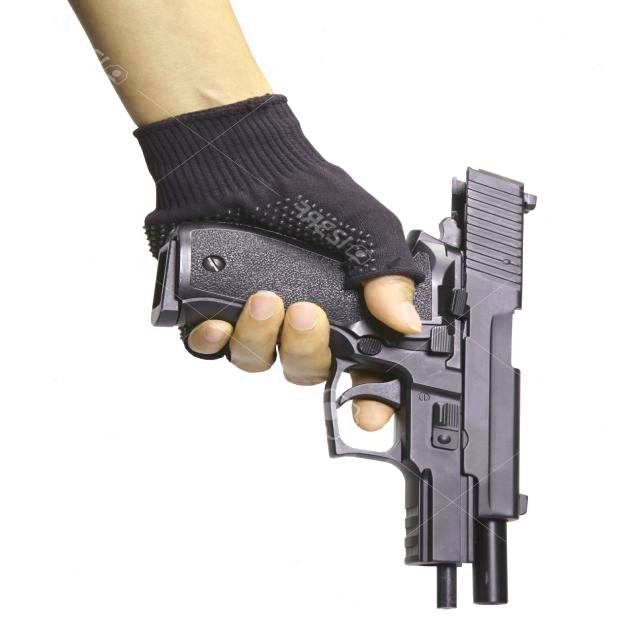gun: (88, 153, 562, 630)
